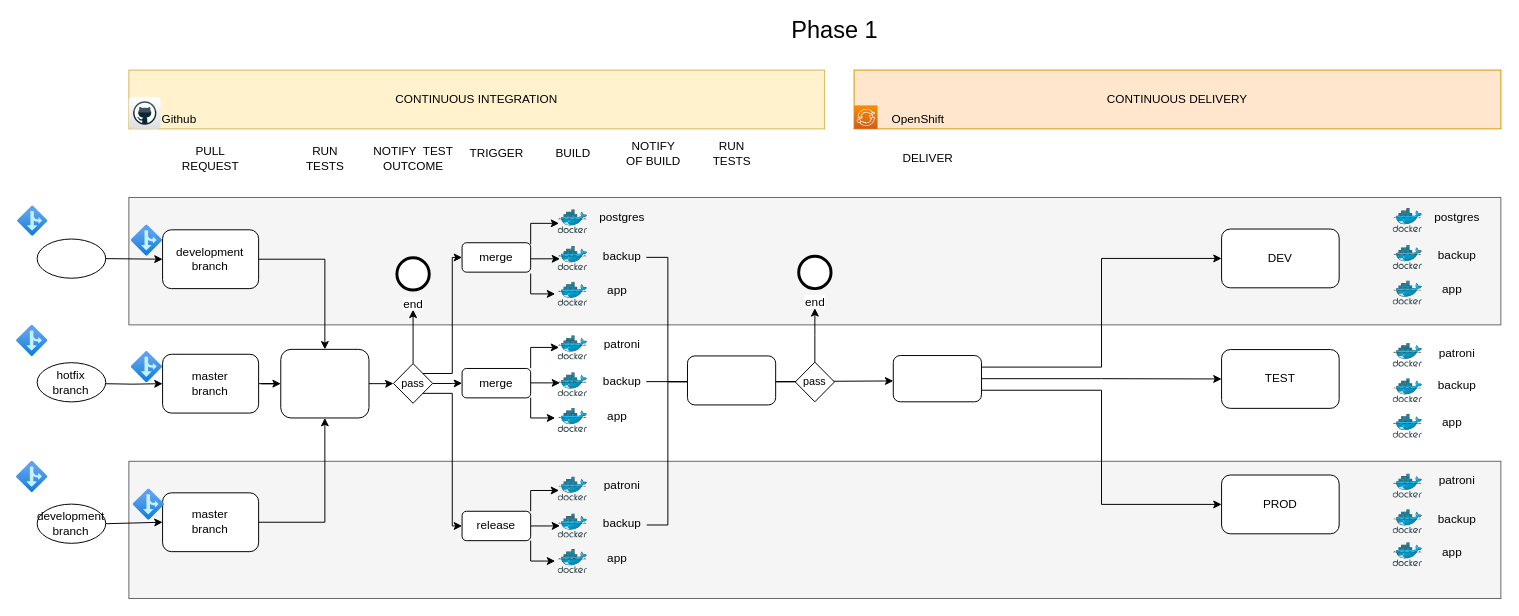
This 1519x616 diagram has some shape labels left out. Here are the shapes that lost their labels. From the top down, the centre of each, then its label:
the point at 71,258: feature branch
the point at 324,383: - lint - unit test - npm audit - sonar scanner
the point at 731,380: quai.io container scan
the point at 936,378: Helm
